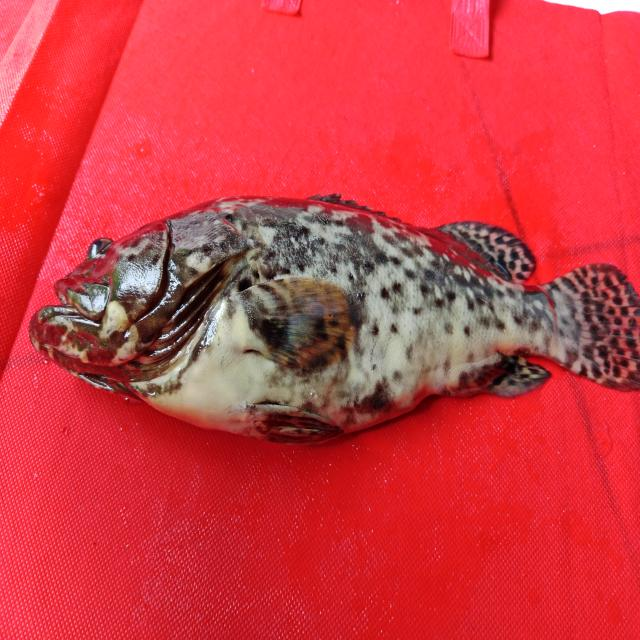ikan: (28, 191, 639, 446)
